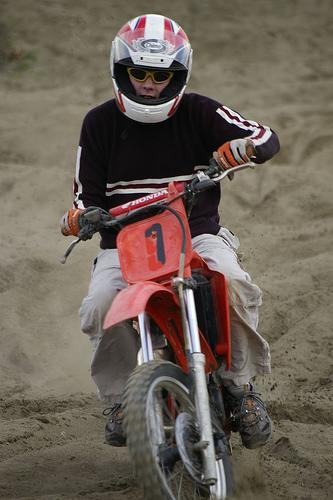motorbike: (38, 168, 295, 500)
